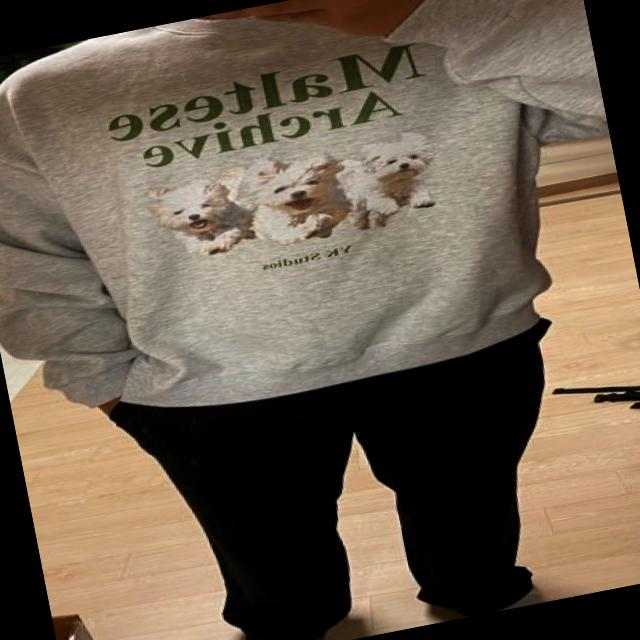mtm: (0, 0, 640, 455)
trainingpants: (101, 318, 590, 640)
